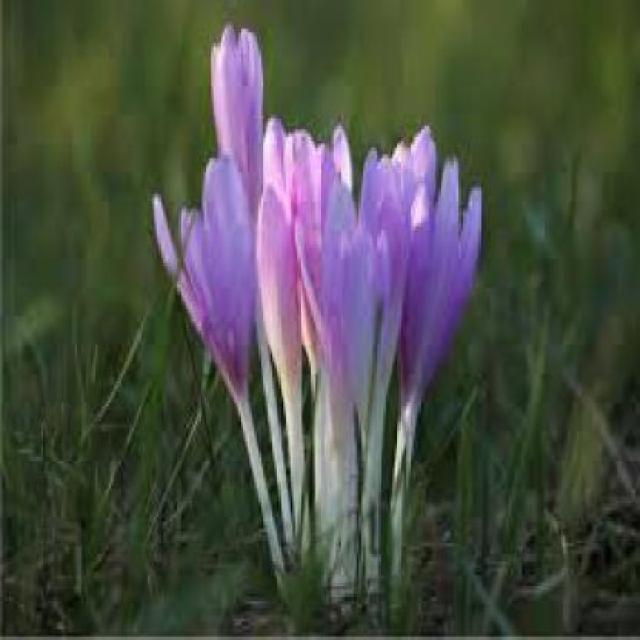saffron open: (398, 129, 481, 476), (154, 157, 260, 409)
